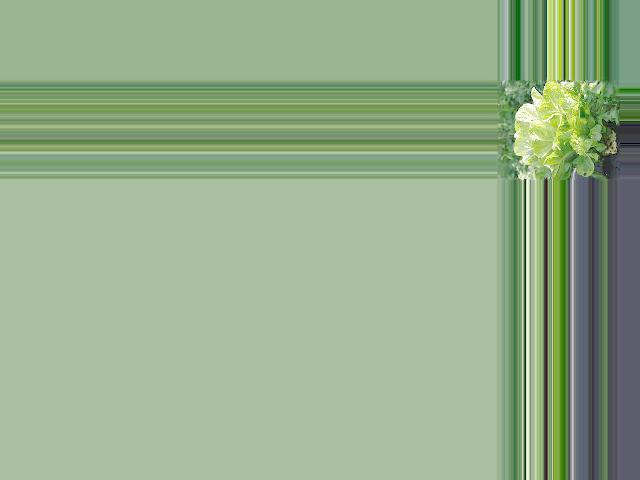lettuce: (515, 90, 599, 176)
